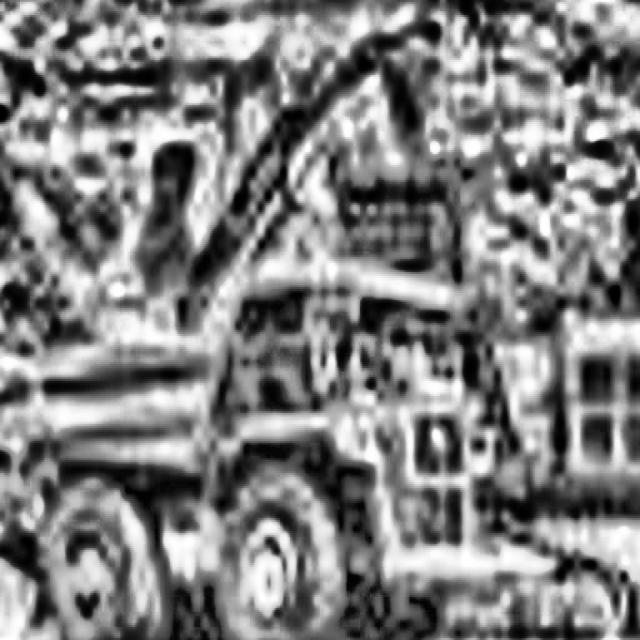dump_truck: (0, 216, 478, 640)
